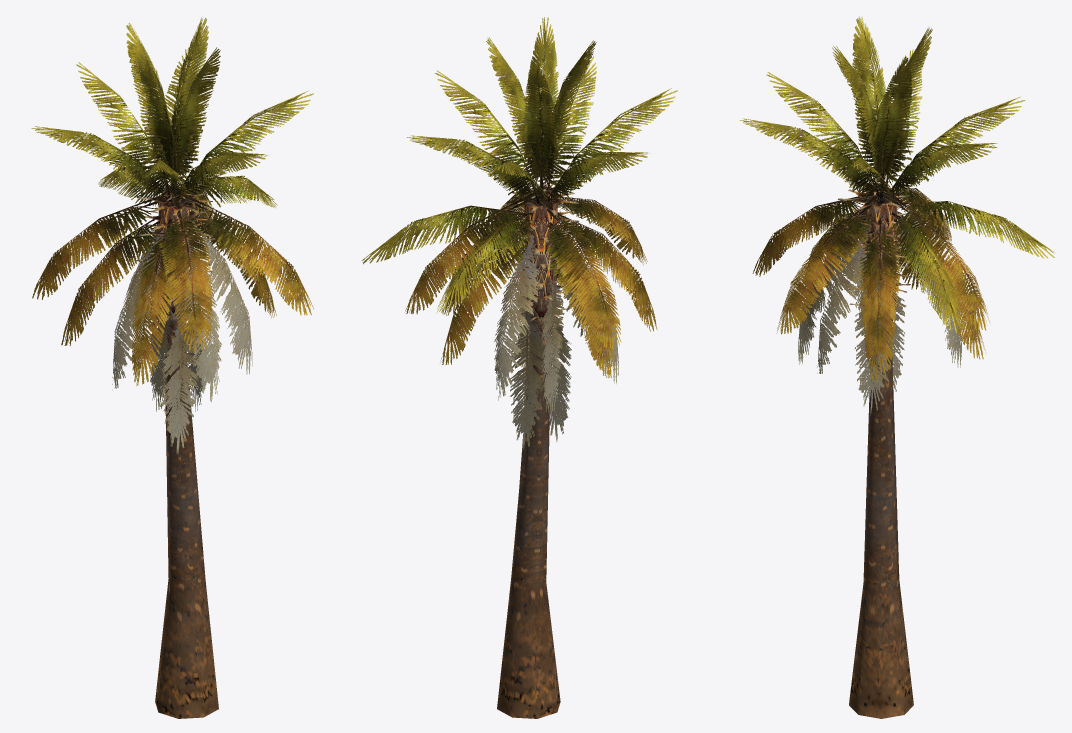
Rendered from flora_tree_date_palm_v2.glb.
3 views of the same model, side by side, from view 1: azimuth 30°, elevation 25°; view 2: azimuth 150°, elevation 25°; view 3: azimuth 270°, elevation 25° (orthographic).
Visible parts, largest first — view 1: flora_tree_date_palm_v2_part0; view 2: flora_tree_date_palm_v2_part0; view 3: flora_tree_date_palm_v2_part0.
Boxes of the visible parts, <box> form: flora_tree_date_palm_v2_part0: <box>31,17,313,718</box>; flora_tree_date_palm_v2_part0: <box>361,17,677,718</box>; flora_tree_date_palm_v2_part0: <box>739,16,1054,718</box>.
Bounding box in the file's own units: 10.78 × 24.48 × 11.14.
Materials: 1 (1 with a texture image).
